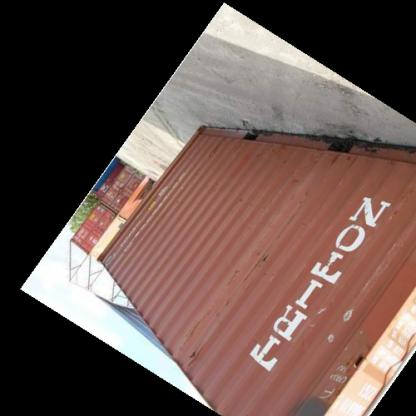Damage: (314, 328, 378, 407), (221, 247, 275, 309), (304, 136, 382, 169), (178, 344, 212, 370), (285, 174, 305, 209), (331, 305, 365, 323), (233, 194, 250, 209)
